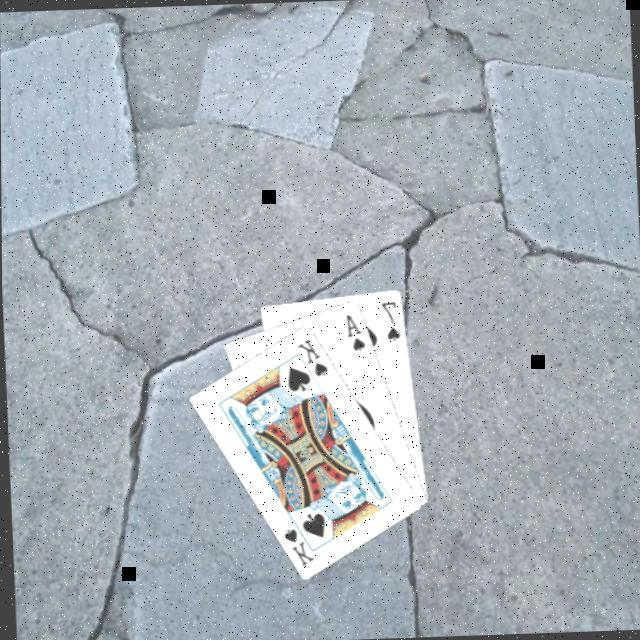7S: (378, 295, 404, 342)
AS: (342, 307, 369, 352)
KS: (278, 514, 317, 567), (293, 333, 331, 378)
